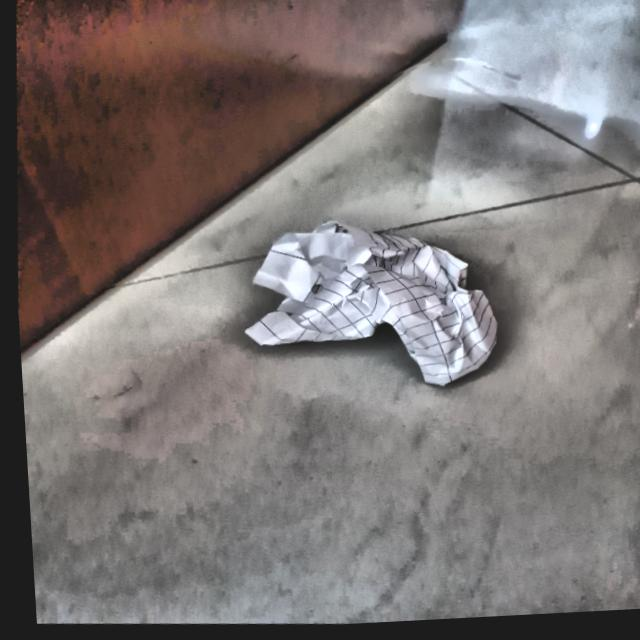Paper: (236, 221, 512, 401)
